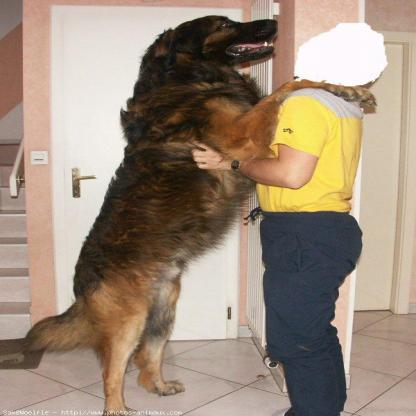Leonberg: (17, 9, 372, 414)
